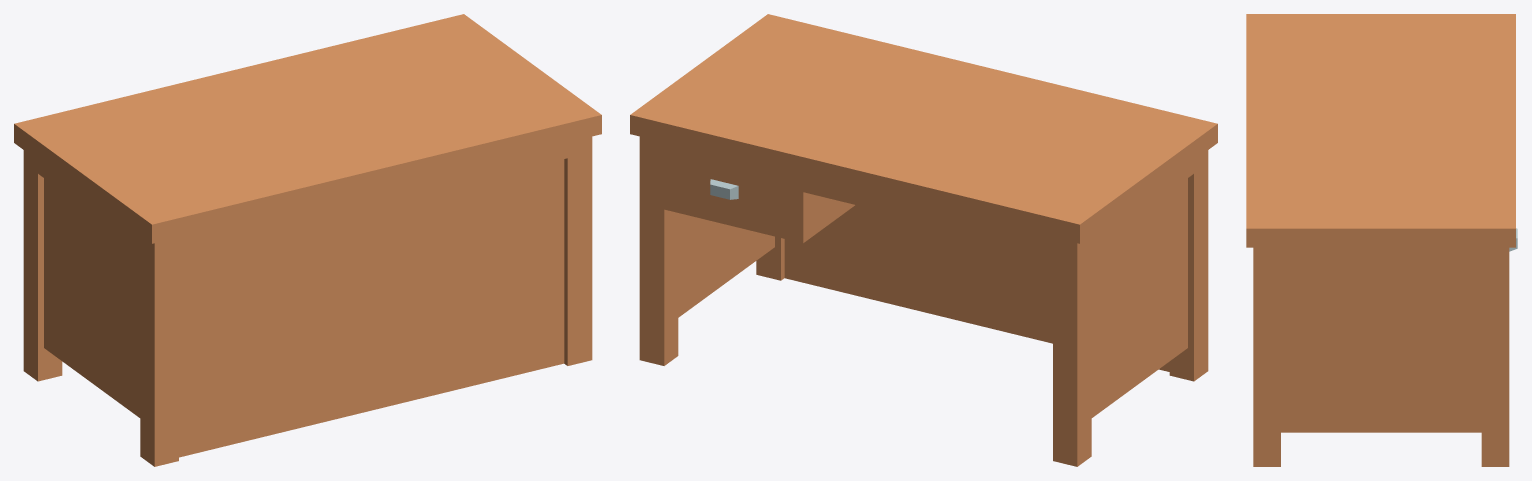
The model's file is Desk.glb.
The picture shows the model from 3 angles, left to right: view 1: azimuth 30°, elevation 25°; view 2: azimuth 150°, elevation 25°; view 3: azimuth 270°, elevation 25°; orthographic projection. The views are drawn at different scales.
Parts seen in each view (by area): view 1: desk; view 2: desk, drawer; view 3: desk.
Boxes of the visible parts, x1,y1,x2,y2 form: desk: (14,14,601,466); desk: (630,14,1217,466); drawer: (664,158,784,219); desk: (1246,14,1515,466).
Size of the model in its own units: 0.7345 by 0.3844 by 0.3923.
